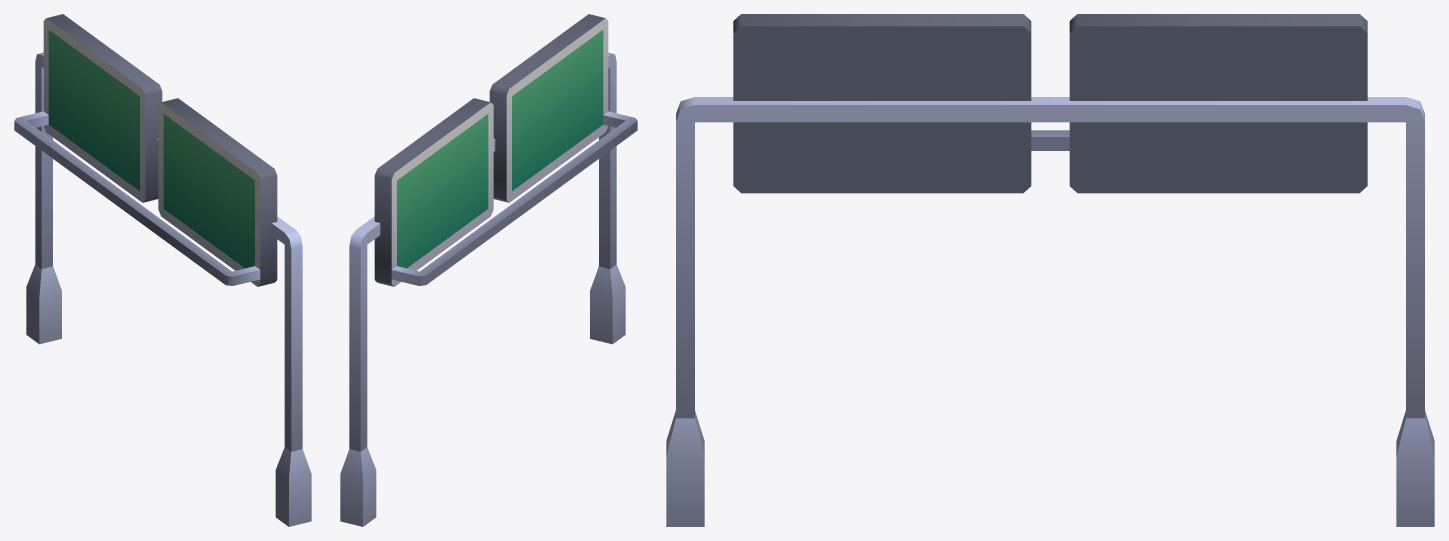
The model's file is sign-highway.glb.
3 renders of one model, left to right at view 1: azimuth 30°, elevation 25°; view 2: azimuth 150°, elevation 25°; view 3: azimuth 270°, elevation 25°, orthographic. The views are drawn at different scales.
Visible parts, largest first — view 1: sign-highway; view 2: sign-highway; view 3: sign-highway.
Part boxes in pixels (x1=…): sign-highway: x1=14, y1=14, x2=311, y2=526; sign-highway: x1=340, y1=14, x2=637, y2=526; sign-highway: x1=666, y1=14, x2=1434, y2=526.
Size of the model in its own units: 0.1324 by 0.7074 by 1.
Materials: 1 (1 with a texture image).
